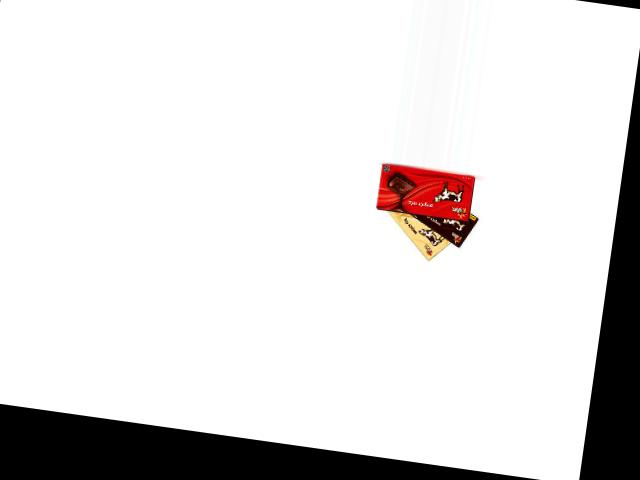chocolate: (372, 201, 465, 266)
